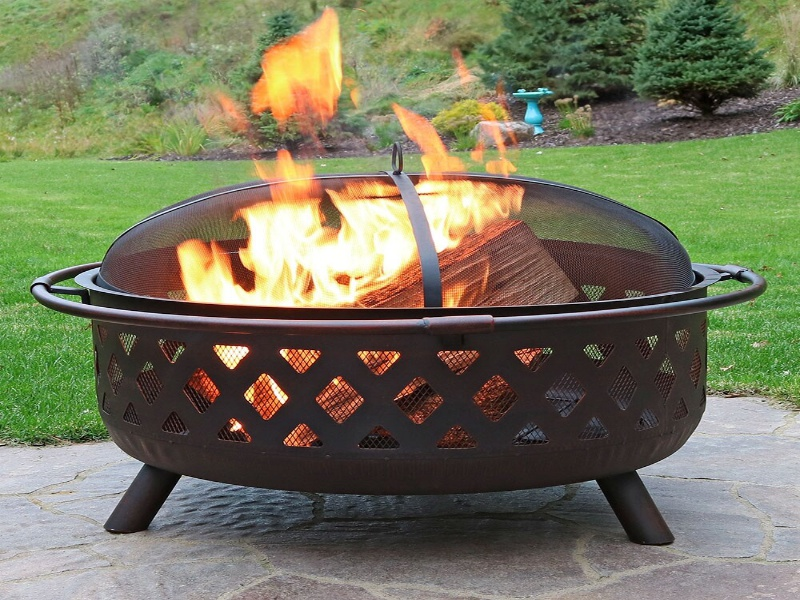fire: (186, 13, 542, 302)
